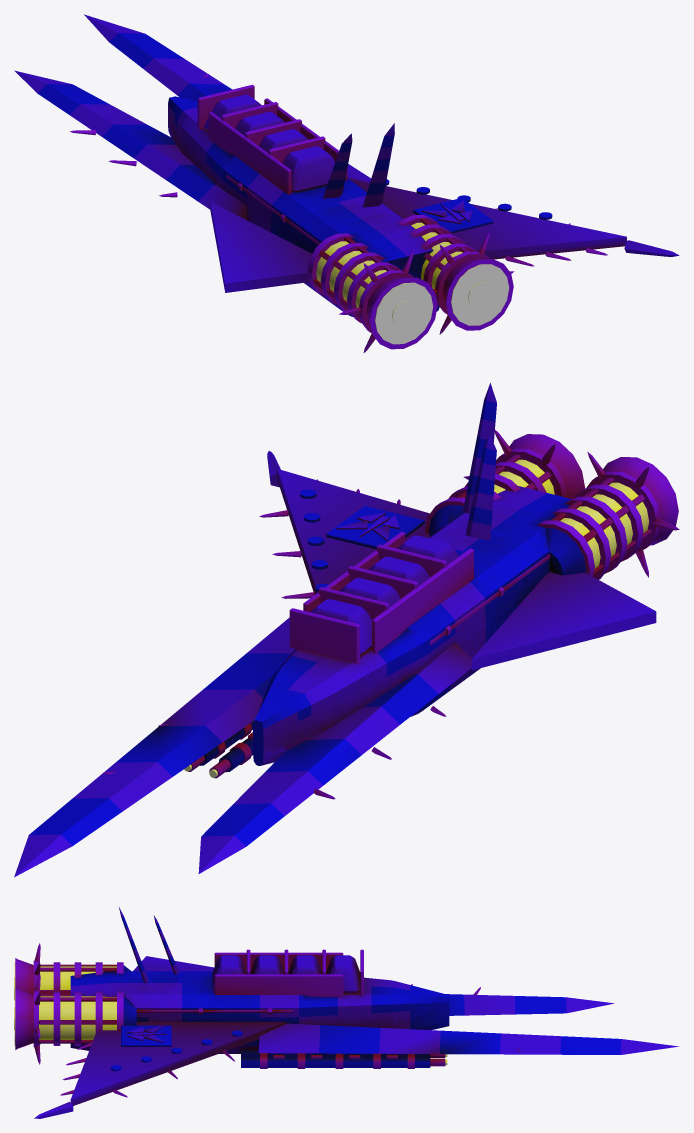
Rendered from pygmaei_rift_interceptor.fbx.
3 views of the same model, one above another, from view 1: azimuth 30°, elevation 25°; view 2: azimuth 150°, elevation 25°; view 3: azimuth 270°, elevation 25° (orthographic). The views are drawn at different scales.
Visible parts, largest first — view 1: pygmaei_rift_interceptor; view 2: pygmaei_rift_interceptor; view 3: pygmaei_rift_interceptor.
Part boxes in pixels (x1=…): pygmaei_rift_interceptor: x1=14, y1=14, x2=679, y2=352; pygmaei_rift_interceptor: x1=14, y1=383, x2=679, y2=877; pygmaei_rift_interceptor: x1=14, y1=907, x2=679, y2=1118.
Bounding box in the file's own units: 0.7741 × 0.3913 × 1.44.
